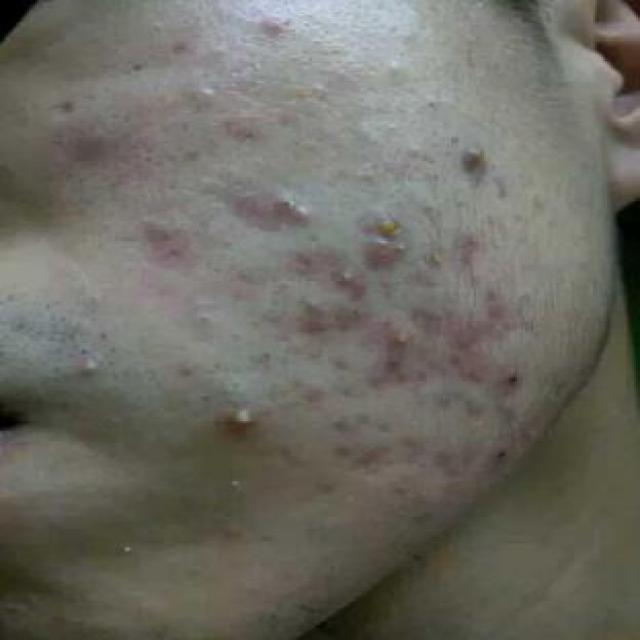Acne: (205, 403, 296, 439), (445, 131, 509, 175), (269, 188, 328, 230), (363, 203, 419, 242), (62, 351, 119, 383), (378, 322, 418, 362), (418, 240, 458, 274), (324, 263, 365, 294)
Blackheads: (476, 431, 535, 471), (490, 361, 536, 397)
